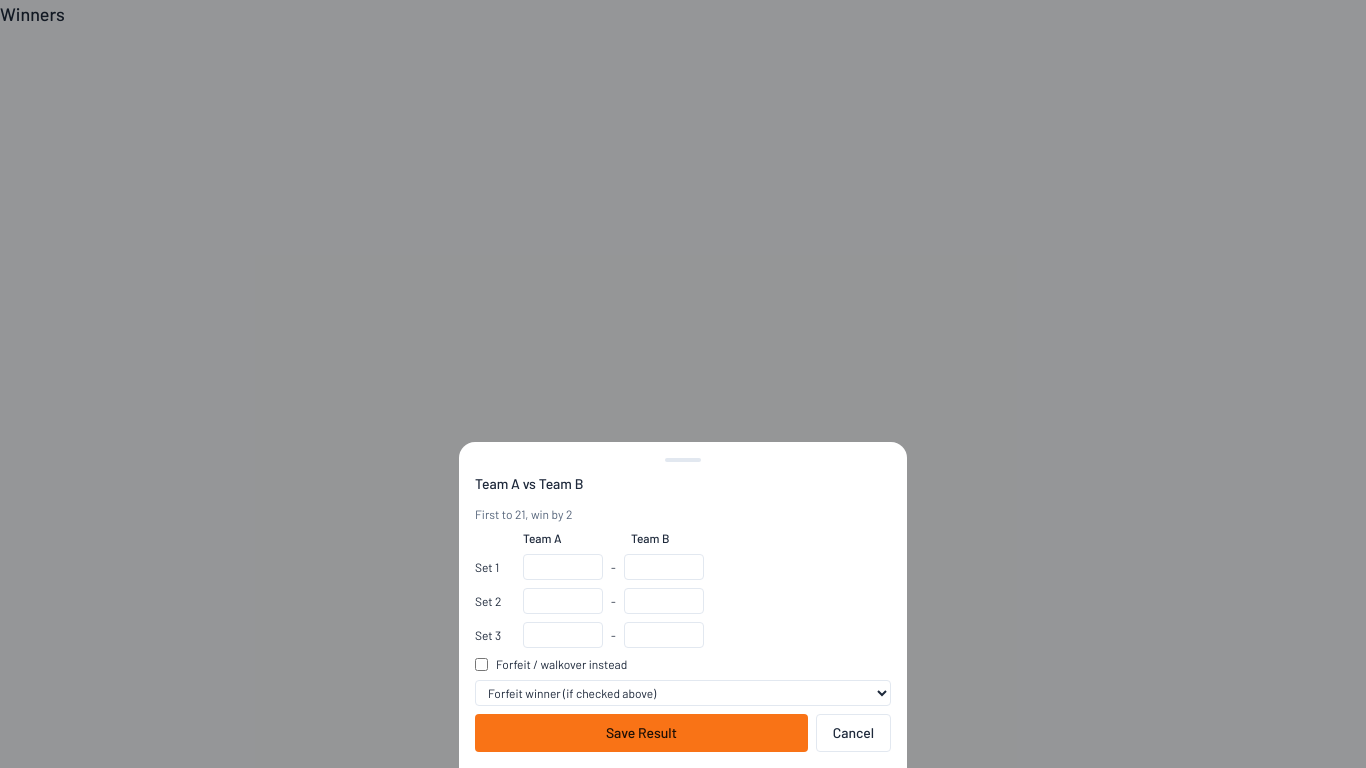
InteractiveBracket › shows the review-needed banner, listing the affected match, when a correction returns one
Click the button "Save Result".
click(641, 733)  # box x1=475 y1=714 x2=808 y2=752
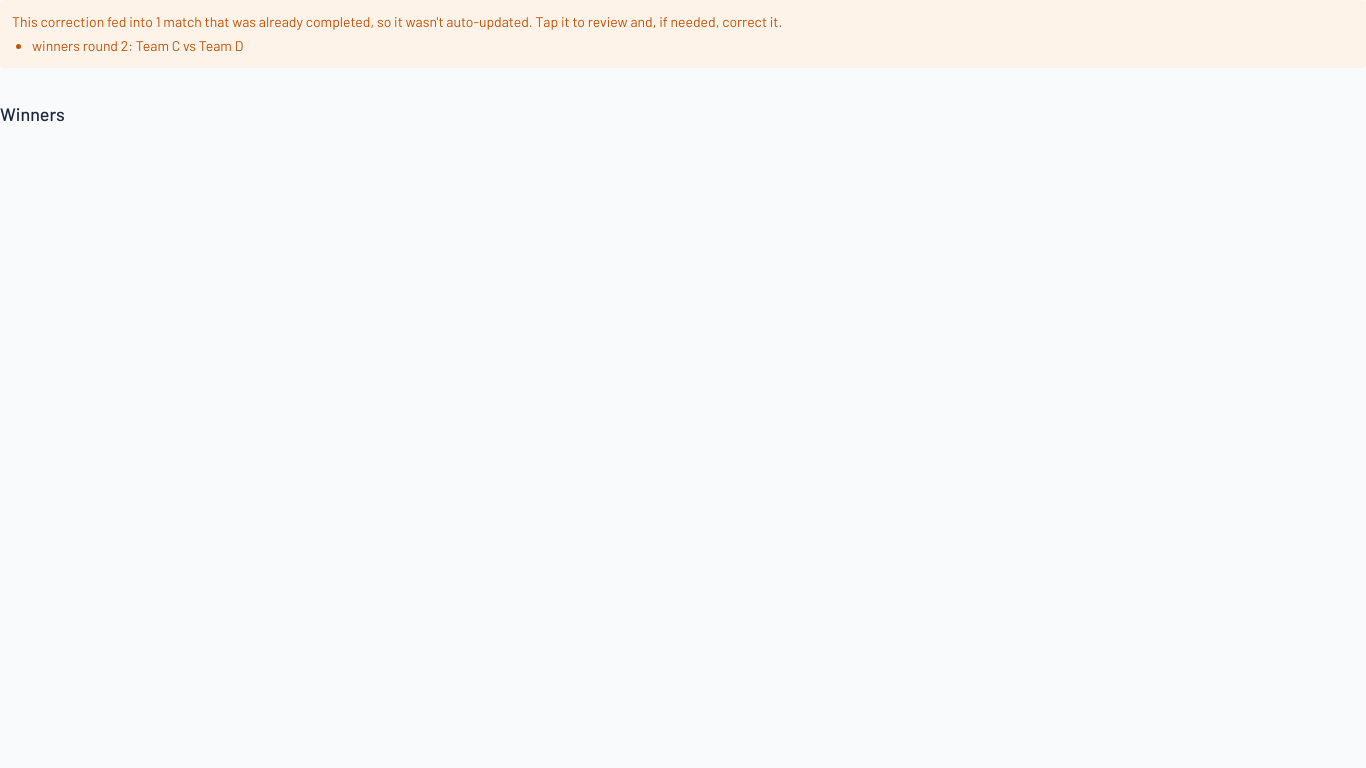
Expected: the text "fed into 1 match" is shown, x1=12 y1=13 x2=782 y2=30
Expected: the list item "winners round 2: Team C vs Team D" is shown, x1=32 y1=37 x2=243 y2=54
